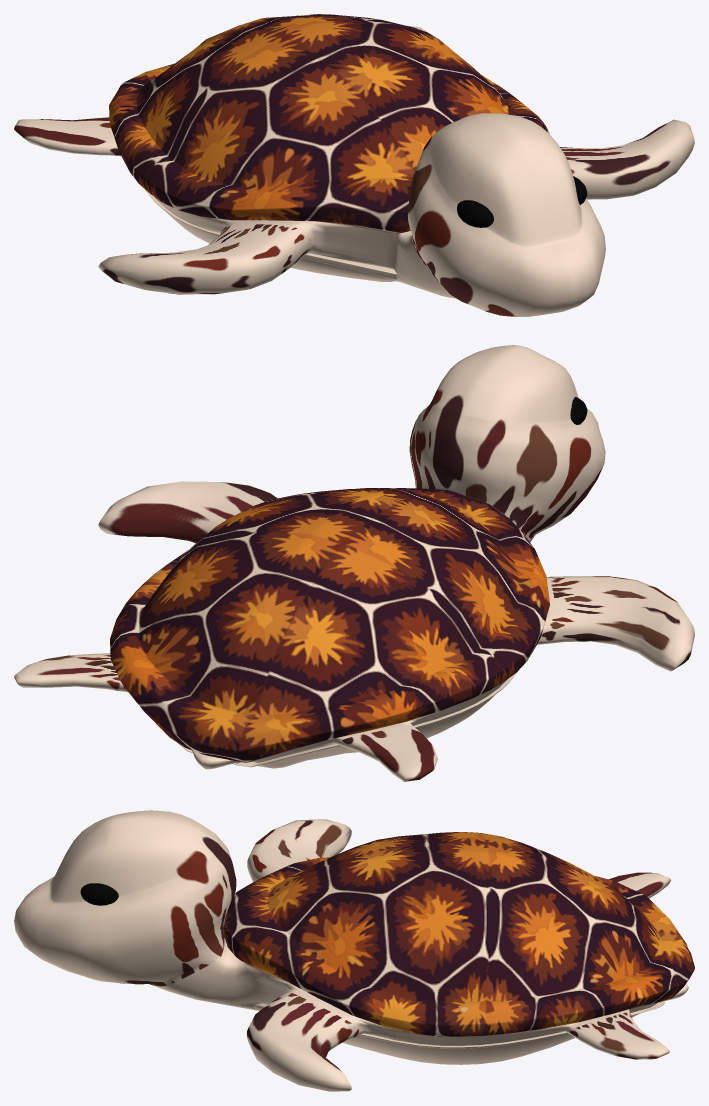
The model's file is TORTUGA.fbx.
The picture shows the model from 3 angles, top to bottom: view 1: azimuth 30°, elevation 25°; view 2: azimuth 150°, elevation 25°; view 3: azimuth 270°, elevation 25°; orthographic projection. The views are drawn at different scales.
Parts seen in each view (by area): view 1: Tortuga, pSphere1; view 2: Tortuga; view 3: Tortuga, pSphere2.
Boxes of the visible parts, left/top/right/bottom form: Tortuga: left=14, top=14, right=694, bottom=316; pSphere1: left=457, top=200, right=493, bottom=227; Tortuga: left=14, top=345, right=694, bottom=781; Tortuga: left=14, top=810, right=694, bottom=1091; pSphere2: left=80, top=883, right=118, bottom=905.
Bounding box in the file's own units: 7.11 × 2.8 × 7.91.
